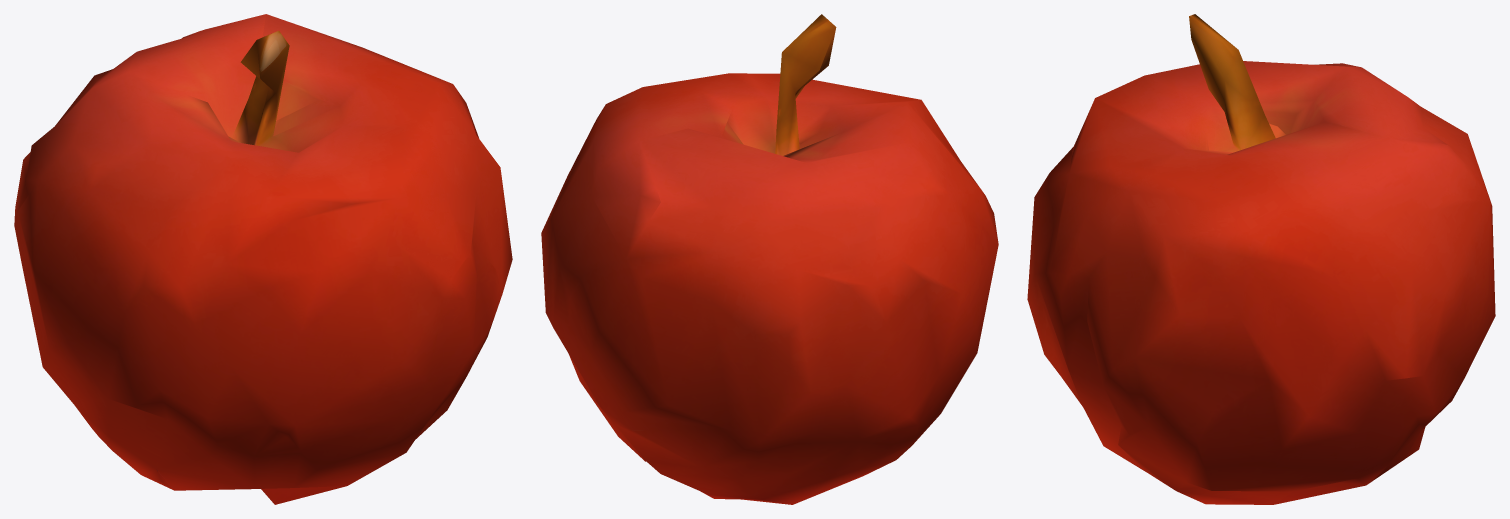
Rendered from food_resource_apple.fbx.
The picture shows the model from 3 angles, left to right: view 1: azimuth 30°, elevation 25°; view 2: azimuth 150°, elevation 25°; view 3: azimuth 270°, elevation 25°; orthographic projection. The views are drawn at different scales.
Visible parts, largest first — view 1: tripo_node_f16e0ea0; view 2: tripo_node_f16e0ea0; view 3: tripo_node_f16e0ea0.
Part boxes in pixels (bbox=[...]): tripo_node_f16e0ea0: bbox=[14, 14, 512, 504]; tripo_node_f16e0ea0: bbox=[541, 14, 998, 504]; tripo_node_f16e0ea0: bbox=[1027, 14, 1495, 504].
Size of the model in its own units: 97.05 by 94.88 by 100.
Materials: 1 (1 with a texture image).
